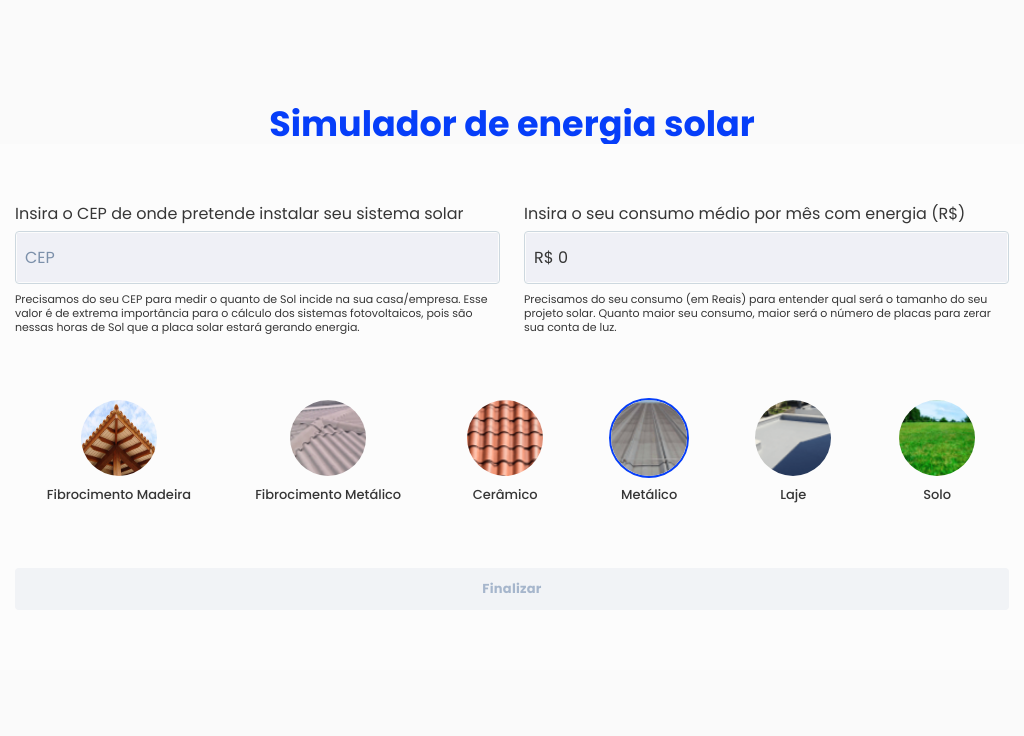
SimulatorHandler Component › should fill the form and submit correctly
Type "100" into the field with test id "form-account-value-field".
click(766, 258); type("100")  # box top-left (526, 233), bottom-right (1007, 282)
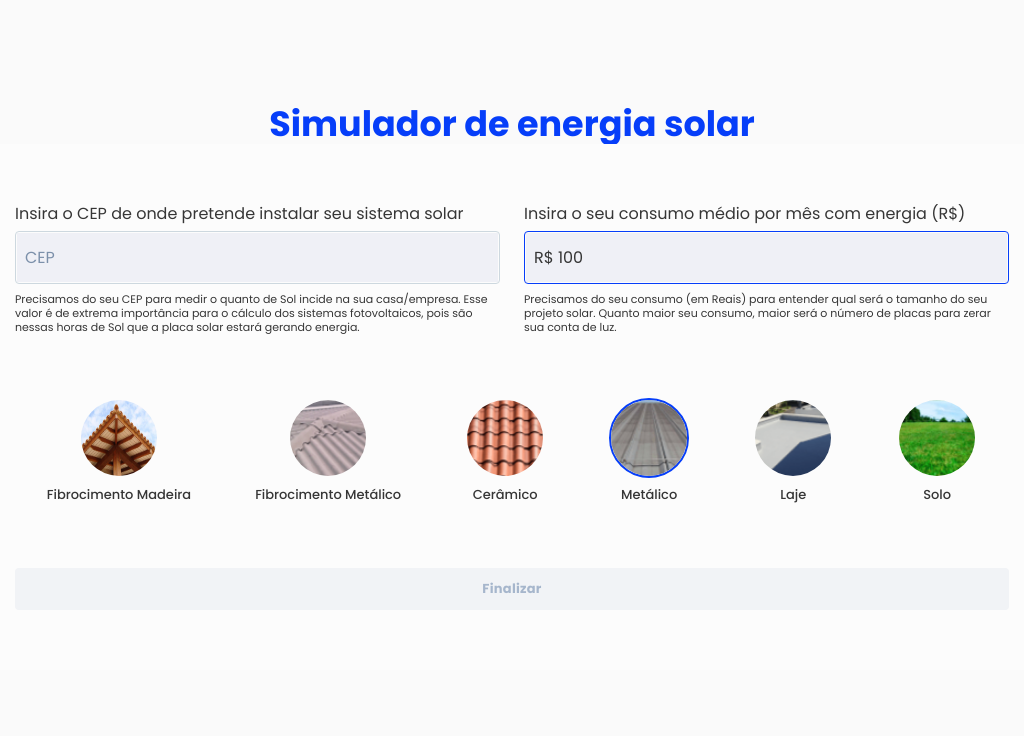
Type "00000-000" into the field with test id "form-cep-field".
click(258, 258); type("00000-000")  # box top-left (17, 233), bottom-right (498, 282)
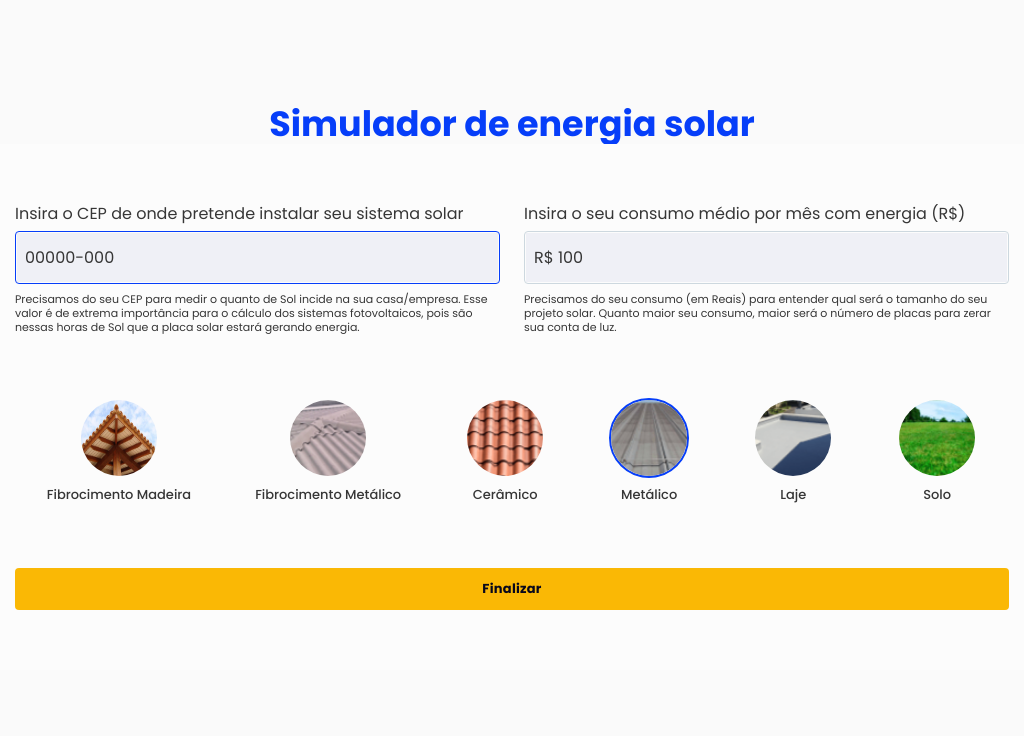
Submit the form with test id "form", box top-left (15, 204), bottom-right (1009, 610)
(page scrolled)
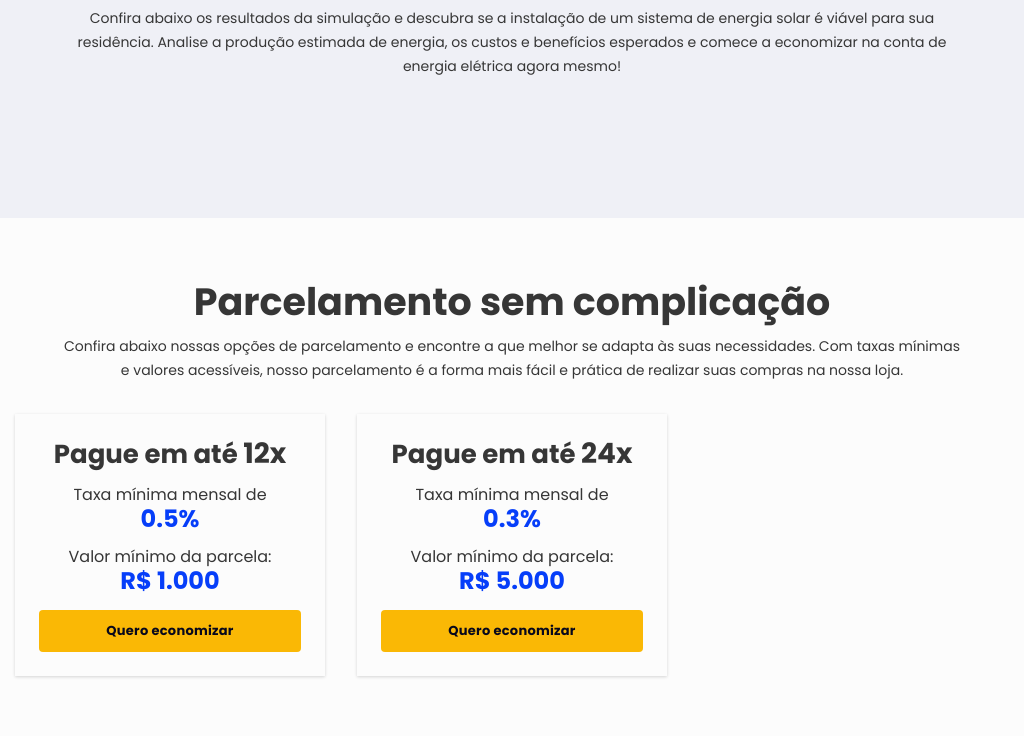
Now the element with test id "installments" is shown, box top-left (0, 278), bottom-right (1023, 676)
